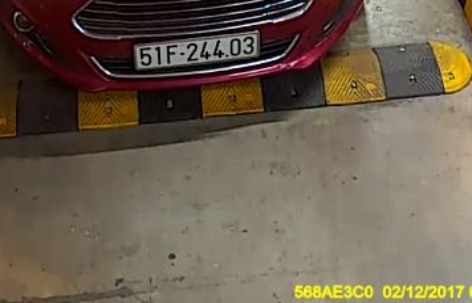plate: (133, 34, 260, 70)
